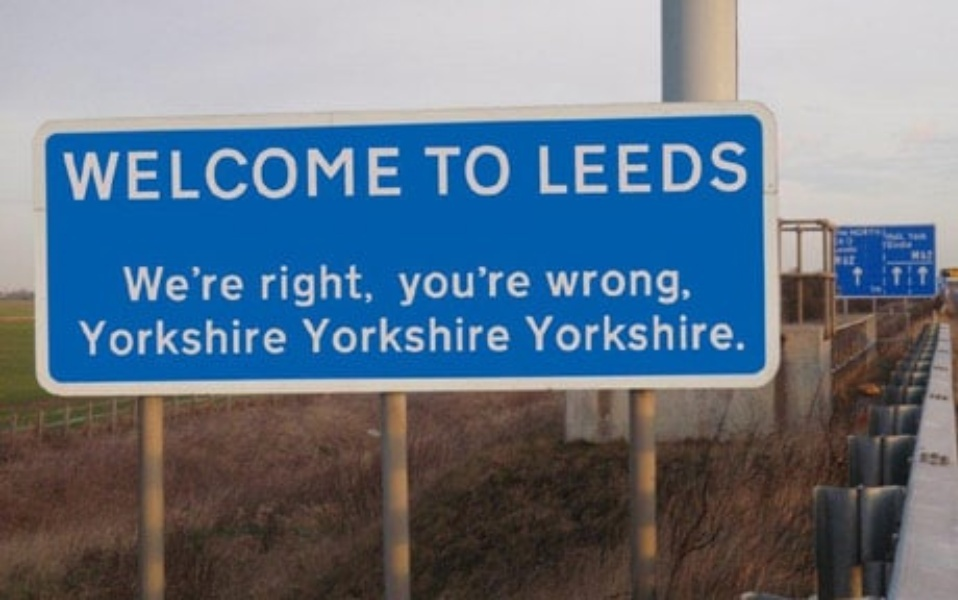text: (65, 144, 80, 203), (81, 144, 96, 203), (97, 144, 112, 203), (113, 144, 128, 203), (129, 144, 144, 203), (145, 144, 160, 203), (161, 144, 176, 203), (177, 144, 192, 203), (193, 144, 208, 203), (209, 144, 224, 203), (225, 144, 240, 203), (241, 144, 256, 203), (257, 144, 272, 203), (273, 144, 288, 203), (289, 144, 304, 203), (305, 144, 320, 203), (321, 144, 336, 203), (337, 144, 352, 203), (353, 144, 368, 203), (369, 144, 384, 203), (385, 144, 400, 203), (433, 144, 448, 201), (449, 144, 464, 201), (465, 144, 480, 201), (481, 144, 496, 201), (497, 144, 512, 201), (545, 140, 560, 194), (561, 140, 576, 194), (577, 140, 592, 194), (593, 140, 608, 194), (609, 140, 624, 194), (625, 140, 640, 194), (641, 140, 656, 194), (657, 140, 672, 194), (673, 140, 688, 194), (689, 140, 704, 194), (705, 140, 720, 194), (721, 140, 736, 194), (737, 140, 750, 194), (273, 261, 288, 307), (289, 261, 304, 307), (305, 261, 320, 307), (321, 261, 336, 307), (337, 261, 352, 307), (353, 261, 368, 307), (401, 265, 416, 307), (417, 265, 432, 307), (433, 265, 448, 307), (449, 265, 464, 307), (465, 265, 480, 307), (481, 265, 496, 307), (497, 265, 512, 307), (513, 265, 528, 307), (81, 317, 96, 357), (97, 317, 112, 357), (113, 317, 128, 357), (129, 317, 144, 357), (145, 317, 160, 357), (161, 317, 176, 357), (177, 317, 192, 357), (193, 317, 208, 357), (209, 317, 224, 357), (225, 317, 240, 357), (241, 317, 256, 357), (257, 317, 272, 357), (529, 313, 544, 353), (545, 313, 560, 353), (561, 313, 576, 353), (577, 313, 592, 353), (593, 313, 608, 353), (609, 313, 624, 353), (625, 313, 640, 353), (641, 313, 656, 353), (657, 313, 672, 353), (673, 313, 688, 353), (689, 313, 704, 353), (705, 313, 720, 353), (721, 313, 736, 353), (259, 261, 272, 307), (129, 265, 144, 303), (145, 265, 160, 303), (161, 265, 176, 303), (177, 265, 192, 303), (193, 265, 208, 303), (209, 265, 224, 303), (225, 265, 240, 303), (545, 267, 560, 305), (561, 267, 576, 305), (577, 267, 592, 305), (593, 267, 608, 305), (609, 267, 624, 305), (625, 267, 640, 305), (641, 267, 656, 305), (657, 267, 672, 305), (673, 267, 688, 305), (305, 315, 320, 353), (321, 315, 336, 353), (337, 315, 352, 353), (353, 315, 368, 353), (369, 315, 384, 353), (385, 315, 400, 353), (401, 315, 416, 353), (417, 315, 432, 353), (433, 315, 448, 353), (449, 315, 464, 353), (465, 315, 480, 353), (481, 315, 496, 353), (497, 315, 511, 353), (273, 317, 286, 357), (737, 313, 750, 353), (423, 144, 432, 201), (538, 140, 544, 194), (881, 228, 896, 248), (897, 228, 912, 248), (913, 228, 928, 248), (121, 265, 128, 303), (394, 265, 400, 307), (913, 248, 928, 263), (75, 317, 80, 357), (523, 313, 528, 353), (833, 240, 848, 253), (369, 261, 373, 307), (929, 228, 938, 248), (61, 144, 64, 203), (300, 315, 304, 353), (849, 228, 864, 238), (865, 228, 880, 238), (833, 257, 848, 267), (849, 240, 859, 253), (529, 265, 532, 307), (836, 228, 848, 238), (513, 144, 515, 201), (241, 265, 244, 303), (689, 267, 692, 305), (929, 248, 936, 263), (849, 257, 859, 267), (542, 267, 544, 305), (401, 144, 402, 203), (881, 228, 886, 238), (909, 248, 912, 263), (829, 257, 832, 267), (831, 240, 832, 253)
